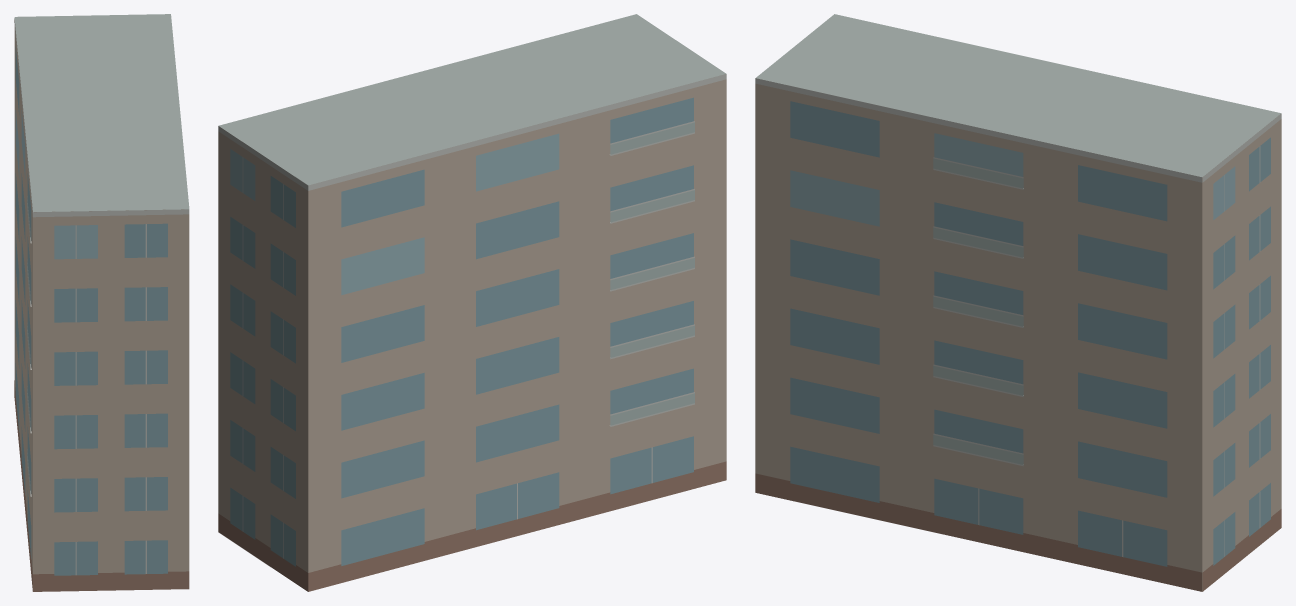
Rendered from survey-upis-32537709.glb.
The picture shows the model from 3 angles, left to right: view 1: azimuth 30°, elevation 25°; view 2: azimuth 150°, elevation 25°; view 3: azimuth 270°, elevation 25°; orthographic projection. The views are drawn at different scales.
Parts seen in each view (by area): view 1: survey-upis-32537709.tmp; view 2: survey-upis-32537709.tmp; view 3: survey-upis-32537709.tmp.
Boxes of the visible parts, box(x1,y1,x2,y2) form: survey-upis-32537709.tmp: box(14, 14, 189, 591); survey-upis-32537709.tmp: box(218, 14, 726, 591); survey-upis-32537709.tmp: box(755, 14, 1281, 591).
Bounding box in the file's own units: 15.47 × 18.3 × 21.06.
